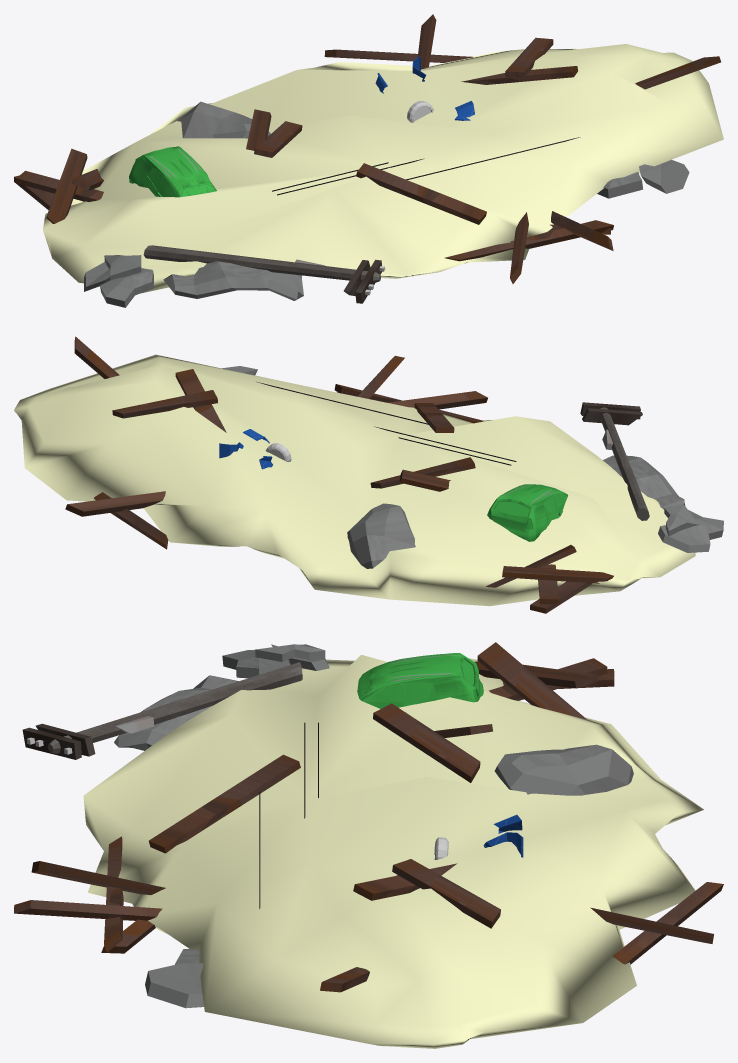
The model's file is DestroçosChão1.fbx.
3 views of the same model, one above another, from view 1: azimuth 30°, elevation 25°; view 2: azimuth 150°, elevation 25°; view 3: azimuth 270°, elevation 25° (orthographic). The views are drawn at different scales.
Parts seen in each view (by area): view 1: DestroçoChão7, PosteQuebrado, Concret2, pCube4.004, Circle.001, Cube, Cubo, pCube4, Rock3, Cubo.003, Cube.002, pCube4.001 (+4 smaller); view 2: DestroçoChão7, Circle.001, pCube4.004, Rock3, PosteQuebrado, Cubo, Cube.002, Cube, Concret2, pCube4.001, pCube4.003, pCube4.002 (+3 smaller); view 3: DestroçoChão7, Cube, Rock3, PosteQuebrado, Circle.001, pCube4.004, pCube4, Cube.002, pCube4.001, Cubo.003, Cubo, pCube4.003 (+3 smaller).
Boxes of the visible parts, <box> form: DestroçoChão7: <box>43,44,723,293</box>; PosteQuebrado: <box>143,245,385,303</box>; Concret2: <box>163,261,303,300</box>; pCube4.004: <box>14,148,103,223</box>; Circle.001: <box>129,146,216,197</box>; Cube: <box>445,211,613,283</box>; Cubo: <box>84,255,153,307</box>; pCube4: <box>356,163,486,224</box>; Rock3: <box>177,101,270,138</box>; Cubo.003: <box>597,159,689,198</box>; Cube.002: <box>324,14,472,69</box>; pCube4.001: <box>246,109,302,157</box>; DestroçoChão7: <box>14,354,695,606</box>; Circle.001: <box>487,484,567,541</box>; pCube4.004: <box>486,545,613,613</box>; Rock3: <box>347,503,415,568</box>; PosteQuebrado: <box>580,402,649,520</box>; Cubo: <box>658,504,723,552</box>; Cube.002: <box>65,491,168,549</box>; Cube: <box>334,355,487,423</box>; Concret2: <box>603,455,685,509</box>; pCube4.001: <box>370,457,475,491</box>; pCube4.003: <box>112,390,217,418</box>; pCube4.002: <box>175,369,226,432</box>; DestroçoChão7: <box>83,654,703,1048</box>; Cube: <box>14,836,165,953</box>; Rock3: <box>494,744,633,795</box>; PosteQuebrado: <box>22,662,302,759</box>; Circle.001: <box>357,653,483,708</box>; pCube4.004: <box>475,642,614,719</box>; pCube4: <box>149,754,300,853</box>; Cube.002: <box>590,882,723,964</box>; pCube4.001: <box>373,703,492,782</box>; Cubo.003: <box>145,948,203,1008</box>; Cubo: <box>222,644,329,678</box>; pCube4.003: <box>392,859,500,928</box>.
Bounding box in the file's own units: 2565 × 347 × 1794.
